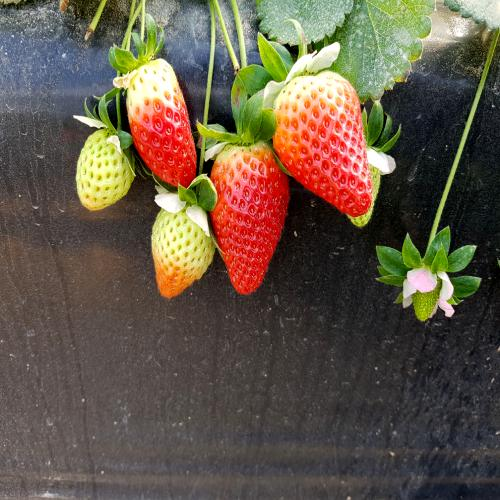partially-ripe: (272, 65, 380, 218), (124, 54, 198, 190)
ripe: (209, 134, 290, 302)
